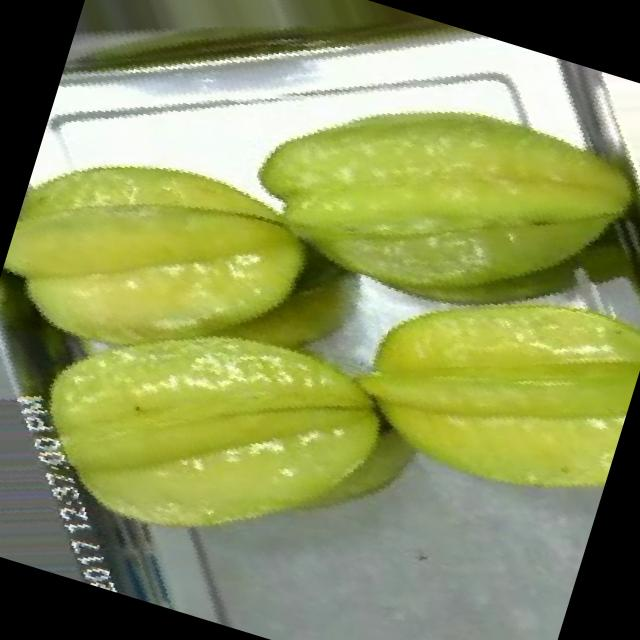fruit: (195, 0, 640, 402), (0, 69, 397, 508), (307, 190, 640, 561), (61, 0, 425, 168)
